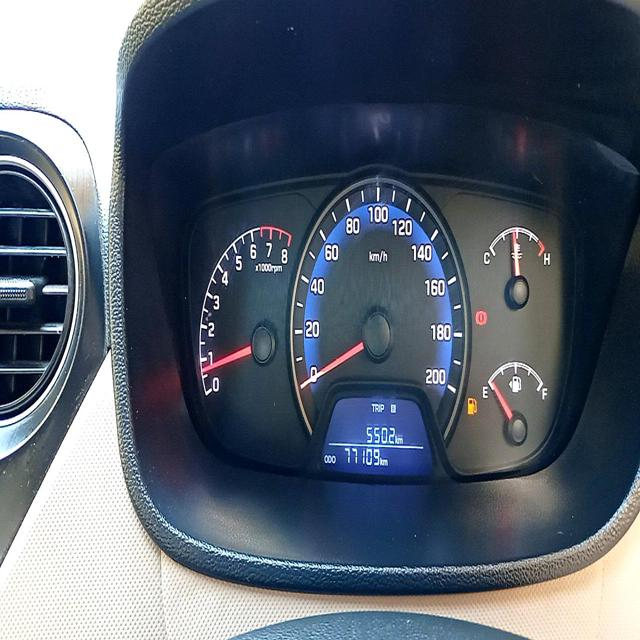odometer: (342, 445, 380, 467)
